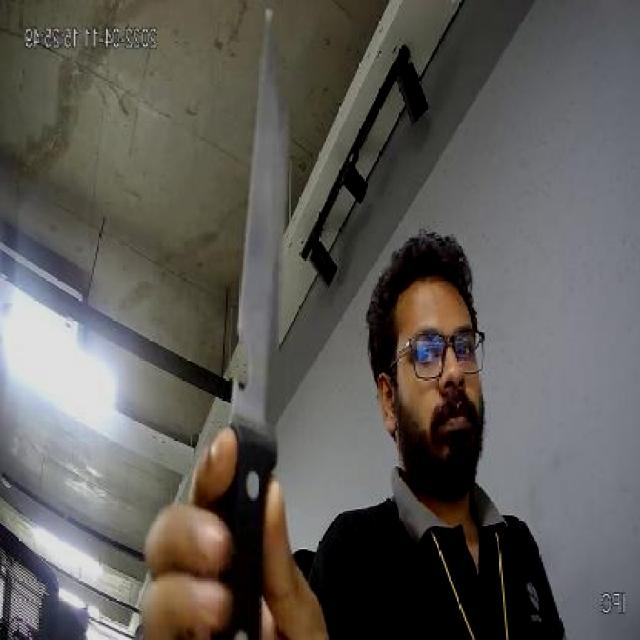knife: (208, 11, 294, 560)
